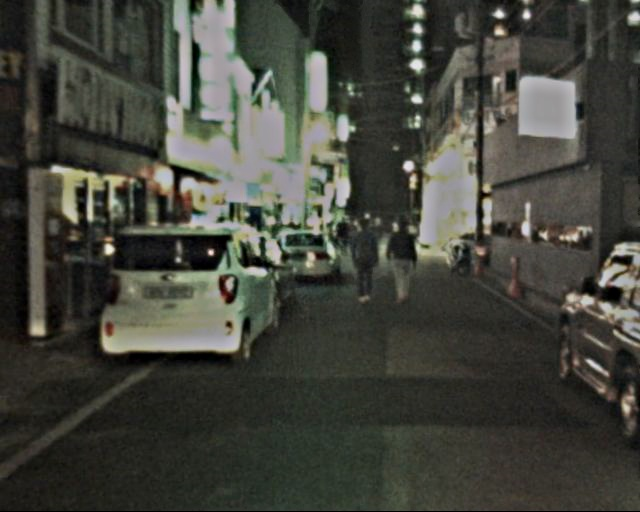person: (387, 216, 427, 309), (348, 219, 384, 309)
